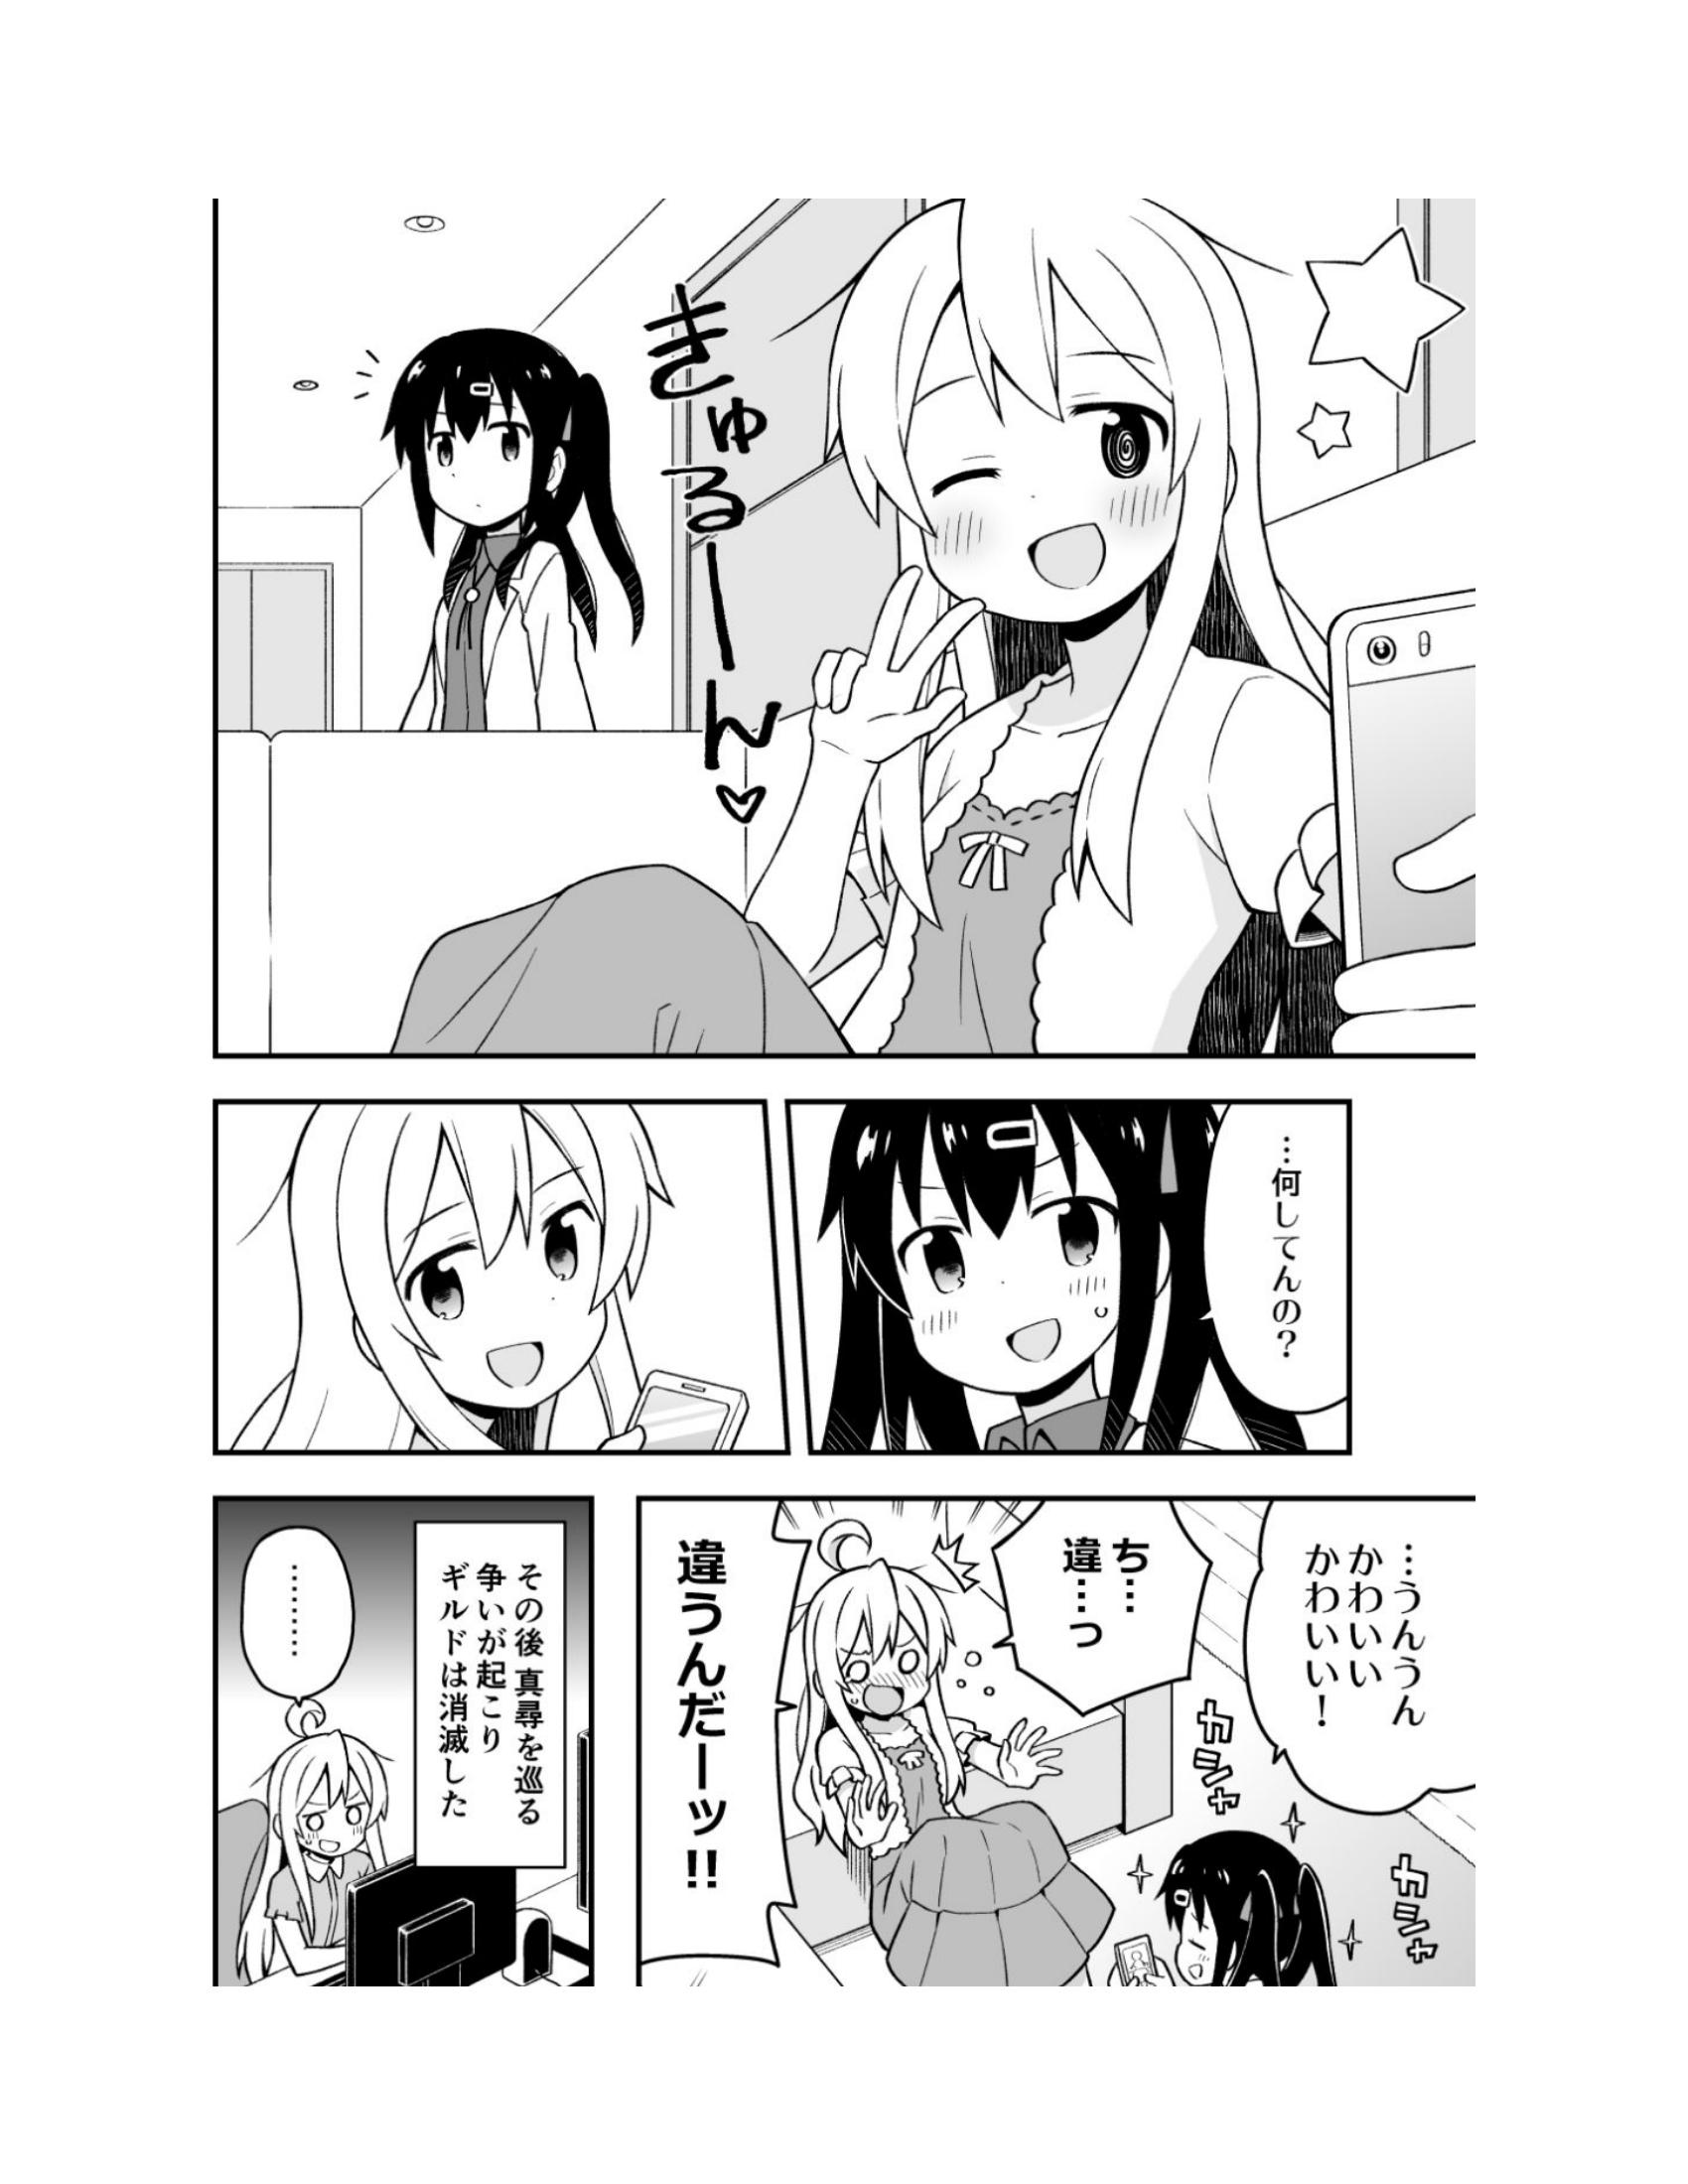a: (628, 1501, 830, 1975), (1254, 1484, 1486, 1854), (372, 1494, 564, 1884), (1009, 1484, 1204, 1767), (1200, 1104, 1372, 1404)
